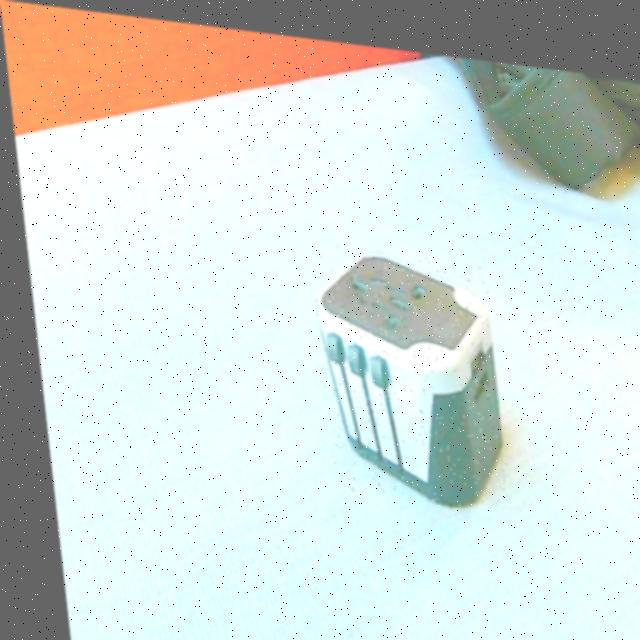adapter: (303, 234, 502, 501)
